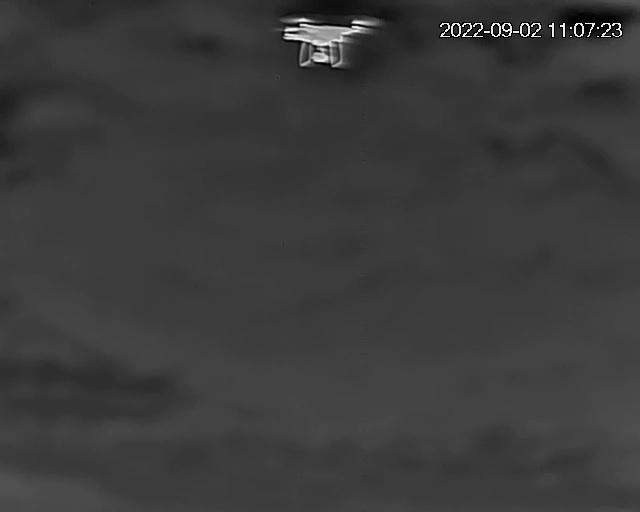DJI-Phantom: (281, 15, 380, 71)
